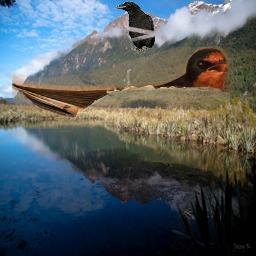Crow: (114, 1, 155, 54)
Swallow: (12, 46, 230, 125)
